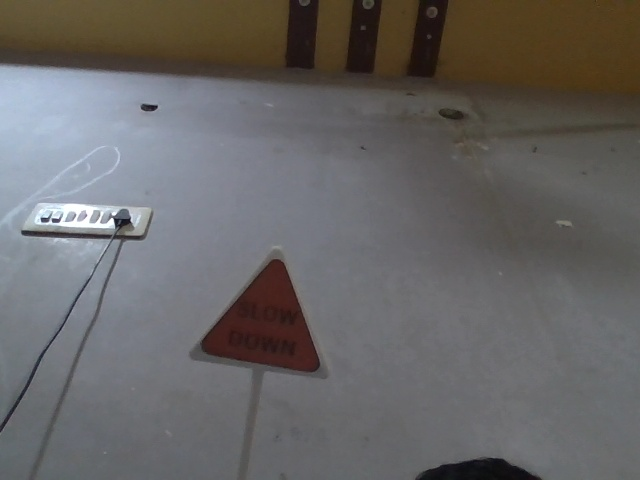slowdown: (187, 228, 332, 384)
